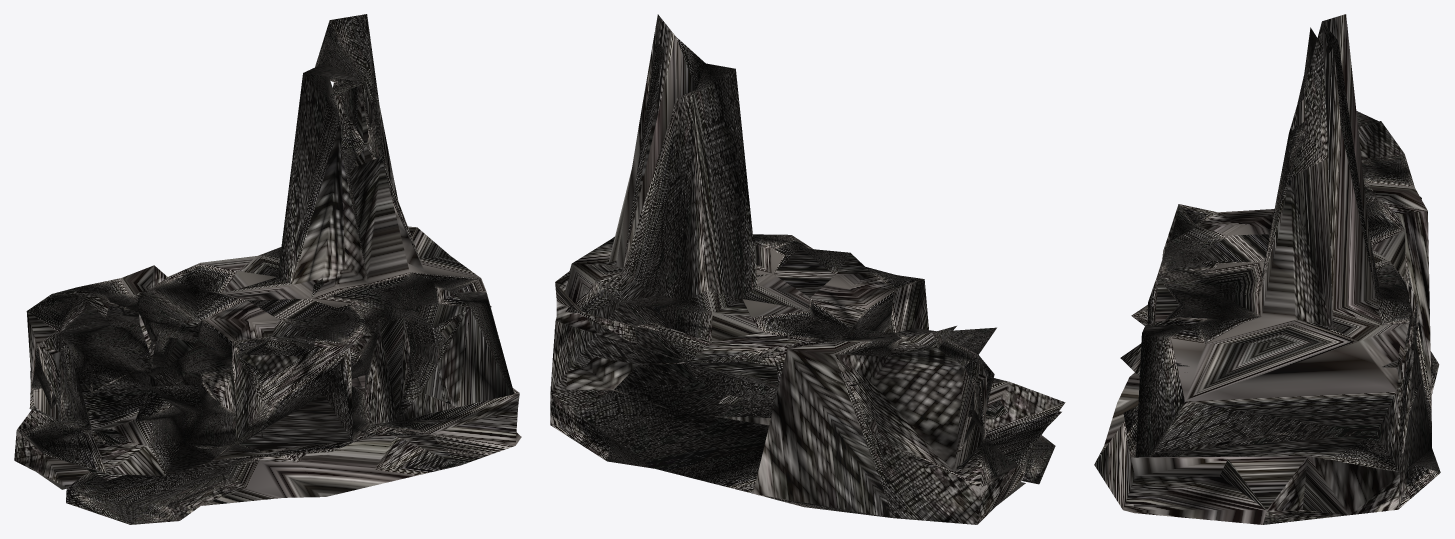
File: strat.glb
The picture shows the model from 3 angles, left to right: view 1: azimuth 30°, elevation 25°; view 2: azimuth 150°, elevation 25°; view 3: azimuth 270°, elevation 25°; orthographic projection. The views are drawn at different scales.
Parts seen in each view (by area): view 1: strat; view 2: strat; view 3: strat.
Part boxes in pixels (box(x1,y1,x2,y2)): strat: box(14, 14, 521, 524); strat: box(550, 14, 1065, 524); strat: box(1094, 14, 1440, 524).
Size of the model in its own units: 22 by 19.43 by 13.41.
Materials: 1 (1 with a texture image).
